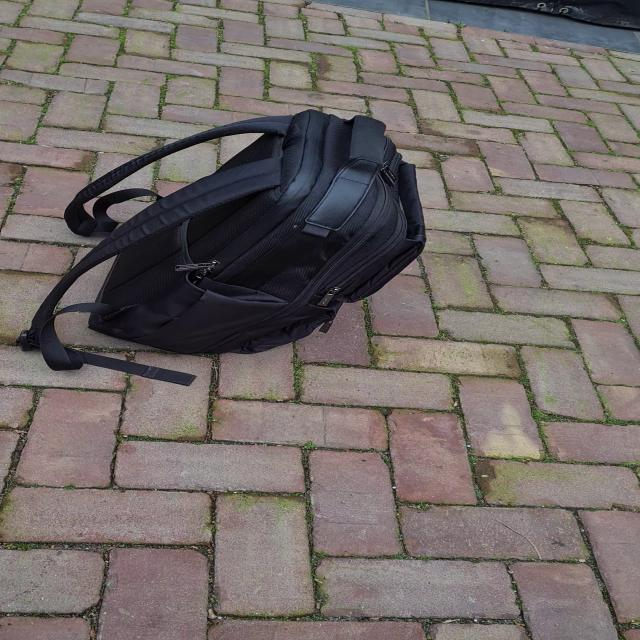backpack: (78, 104, 436, 390)
